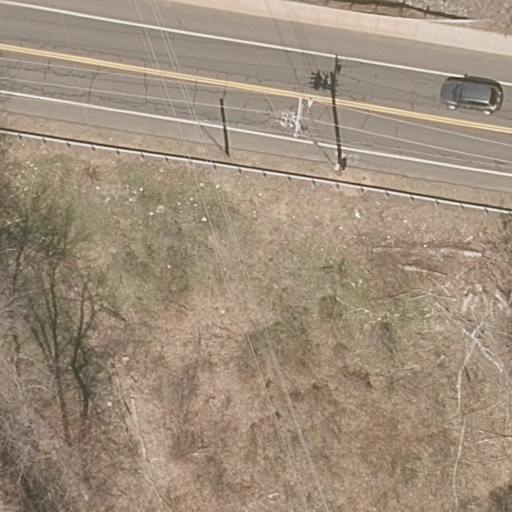DT: (274, 95, 344, 175)
